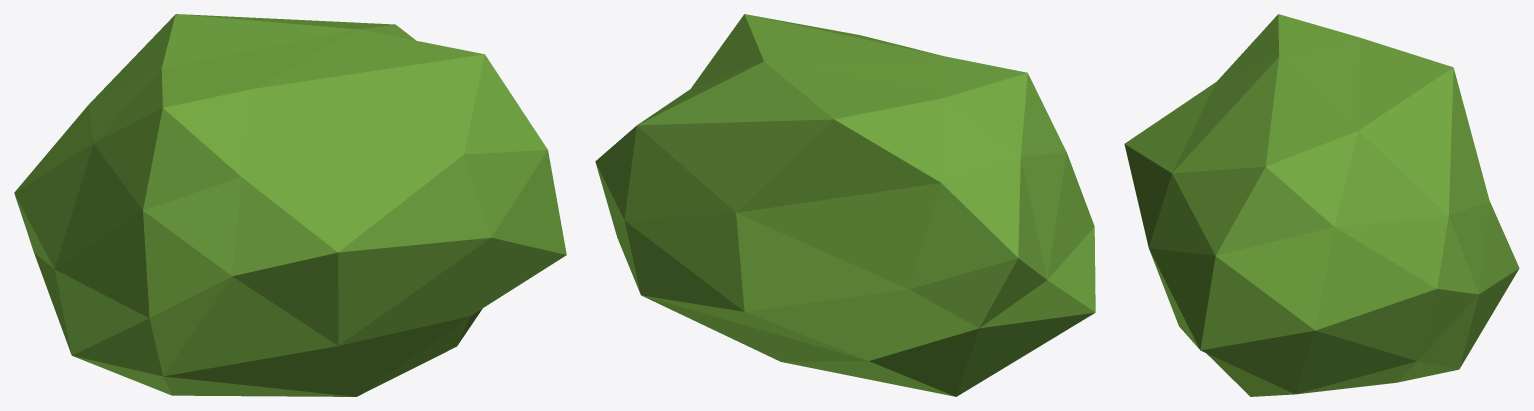
Rendered from Busch klein.fbx.
3 views of the same model, side by side, from view 1: azimuth 30°, elevation 25°; view 2: azimuth 150°, elevation 25°; view 3: azimuth 270°, elevation 25° (orthographic). The views are drawn at different scales.
Parts seen in each view (by area): view 1: Busch_II; view 2: Busch_II; view 3: Busch_II.
Part boxes in pixels (<box>): Busch_II: <box>14,14,566,396</box>; Busch_II: <box>595,14,1095,396</box>; Busch_II: <box>1124,14,1519,396</box>.
Size of the model in its own units: 130 by 78.84 by 106.
